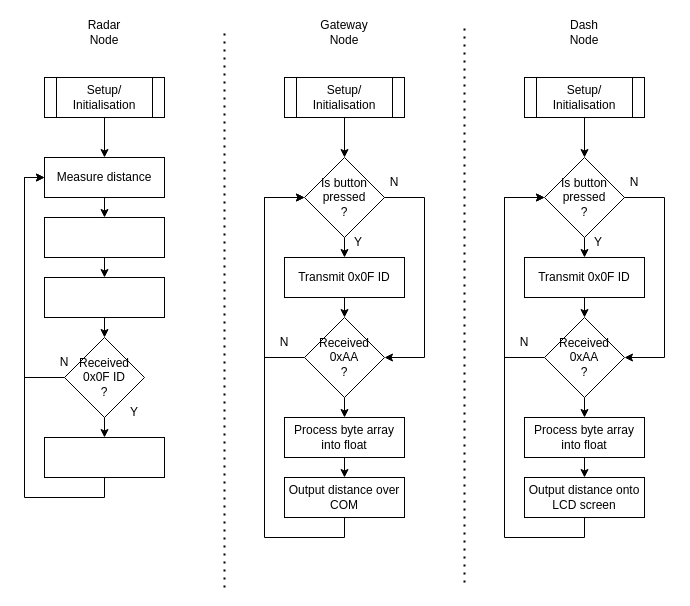
The diagram is 690 pixels wide and 606 high, and some of its shapes have lost their labels. The shapes that lost their labels are listed below. From the top down, each one's centre as x and y in pixels, then its label:
pixel 104 237: Convert to Byte array
pixel 104 297: Transmit onto CAN with ID = AA
pixel 104 457: Flash LED
